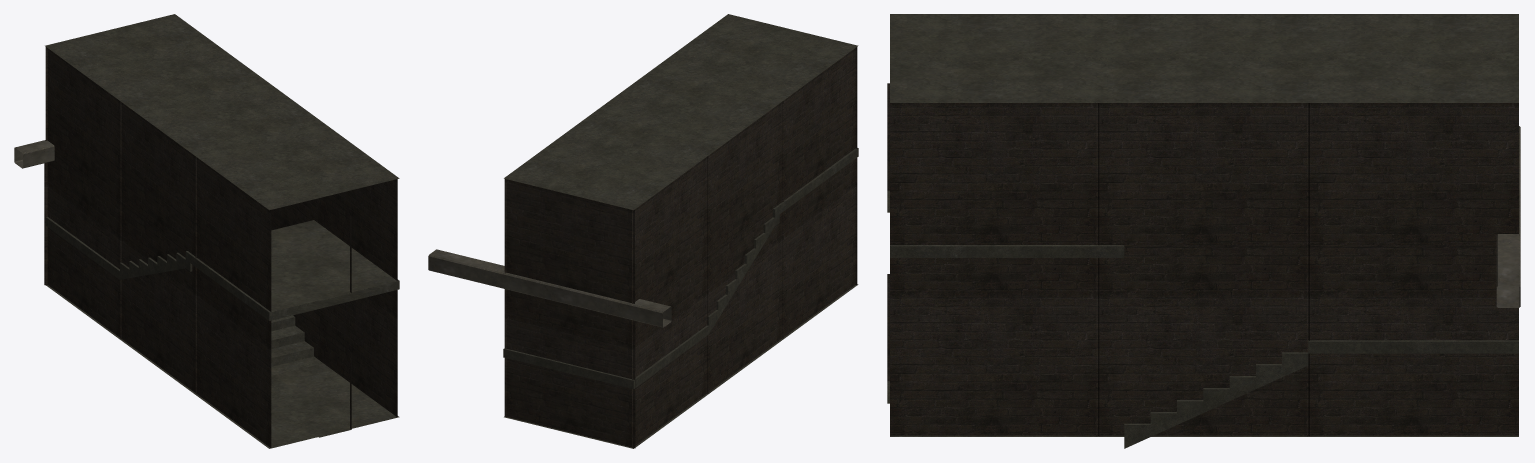
Rendered from basement_stairwell.glb.
The picture shows the model from 3 angles, left to right: view 1: azimuth 30°, elevation 25°; view 2: azimuth 150°, elevation 25°; view 3: azimuth 270°, elevation 25°; orthographic projection. The views are drawn at different scales.
Parts seen in each view (by area): view 1: BasementStairwell; view 2: BasementStairwell; view 3: BasementStairwell.
Boxes of the visible parts, <box> form: BasementStairwell: <box>14,14,399,448</box>; BasementStairwell: <box>428,14,858,448</box>; BasementStairwell: <box>887,14,1520,448</box>.
Size of what is drawn, in the model's own units: 7.2 by 7.25 by 12.03.
4 materials, 4 textured.
